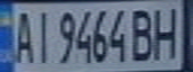4: (109, 6, 130, 62), (75, 7, 93, 64)
6: (90, 6, 112, 63)
9: (54, 7, 75, 64)
A: (9, 7, 36, 64)
B: (127, 5, 160, 62)
H: (148, 3, 184, 61)
I: (30, 7, 54, 64)
